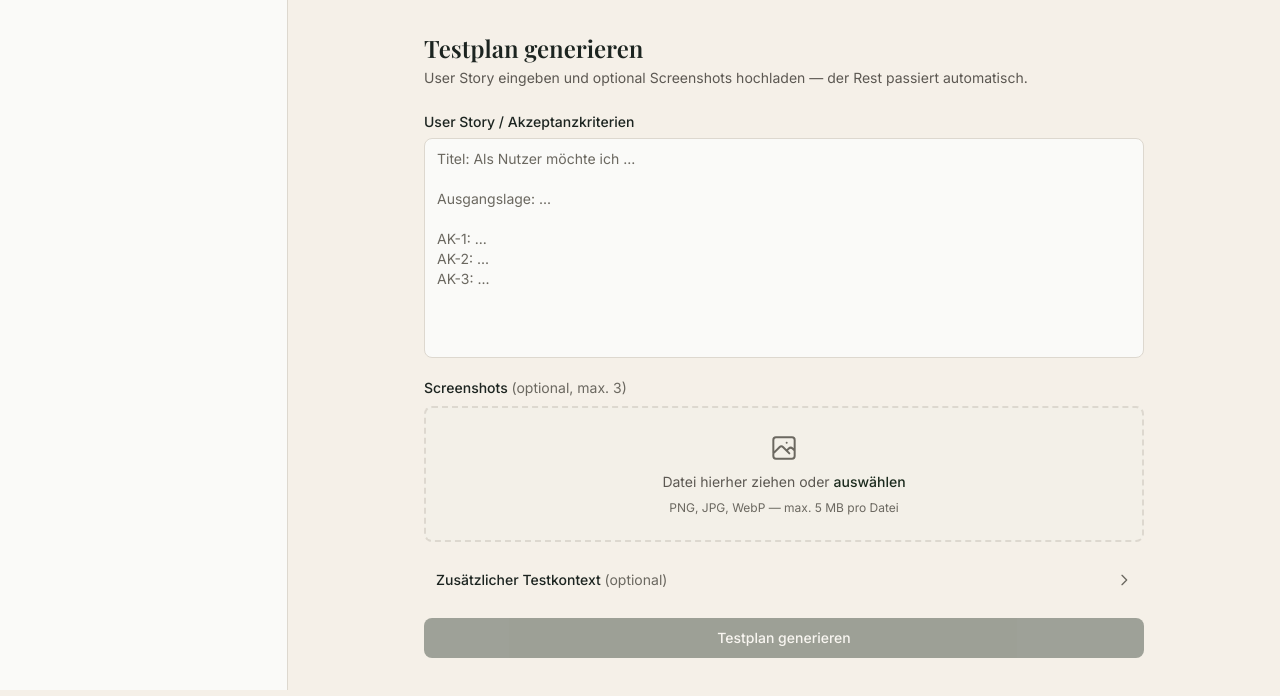
it: TestCaseGeneratorPage — Reset › kehrt zum Input-Screen zurück
Type "Story" into the text box labelled "User Story / Akzeptanzkriterien". click: (784, 248)
box: [424,138,1144,358]
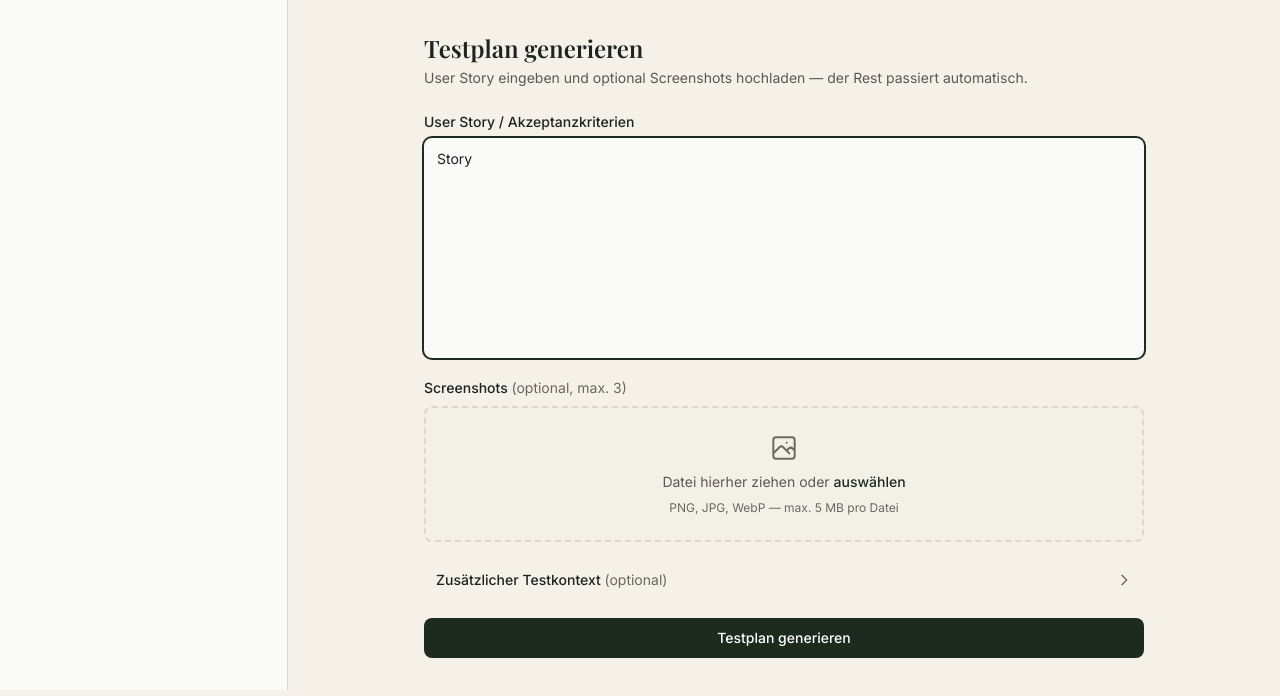
Click the button "Testplan generieren". click: (784, 638)
box: [424,618,1144,658]
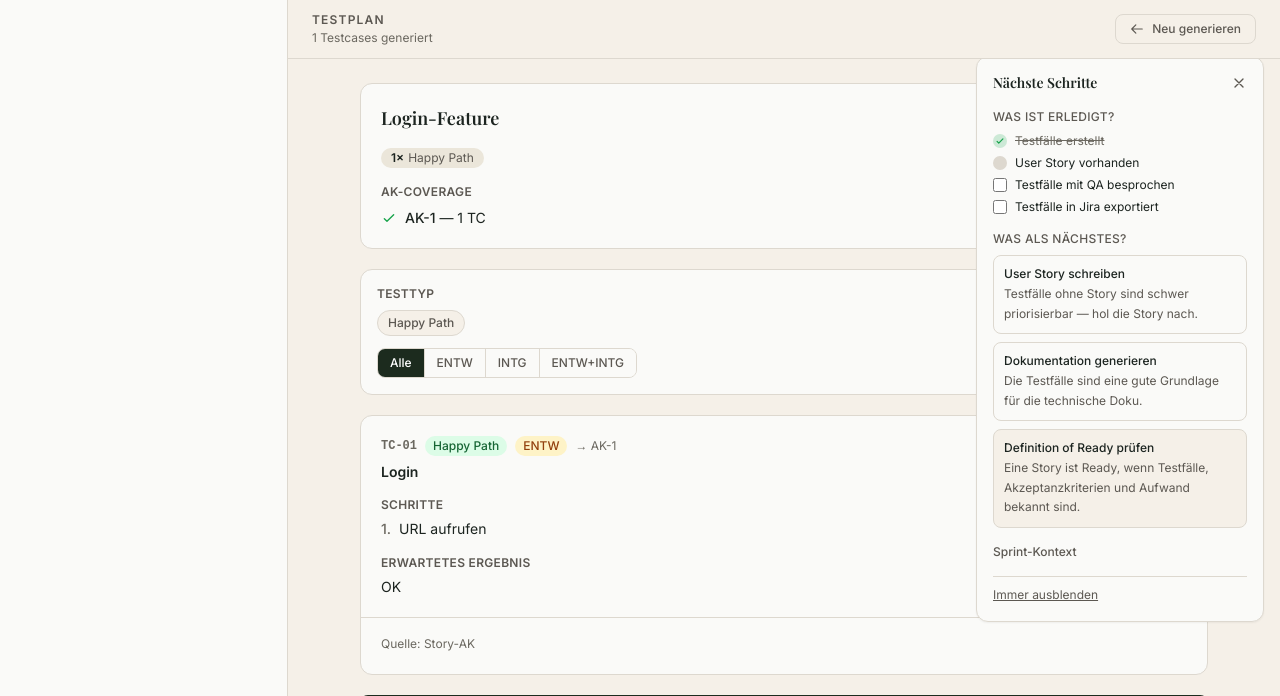
Click the button with aria-label "Zurück zur Eingabe". click: (1186, 29)
box: [1115,14,1256,44]
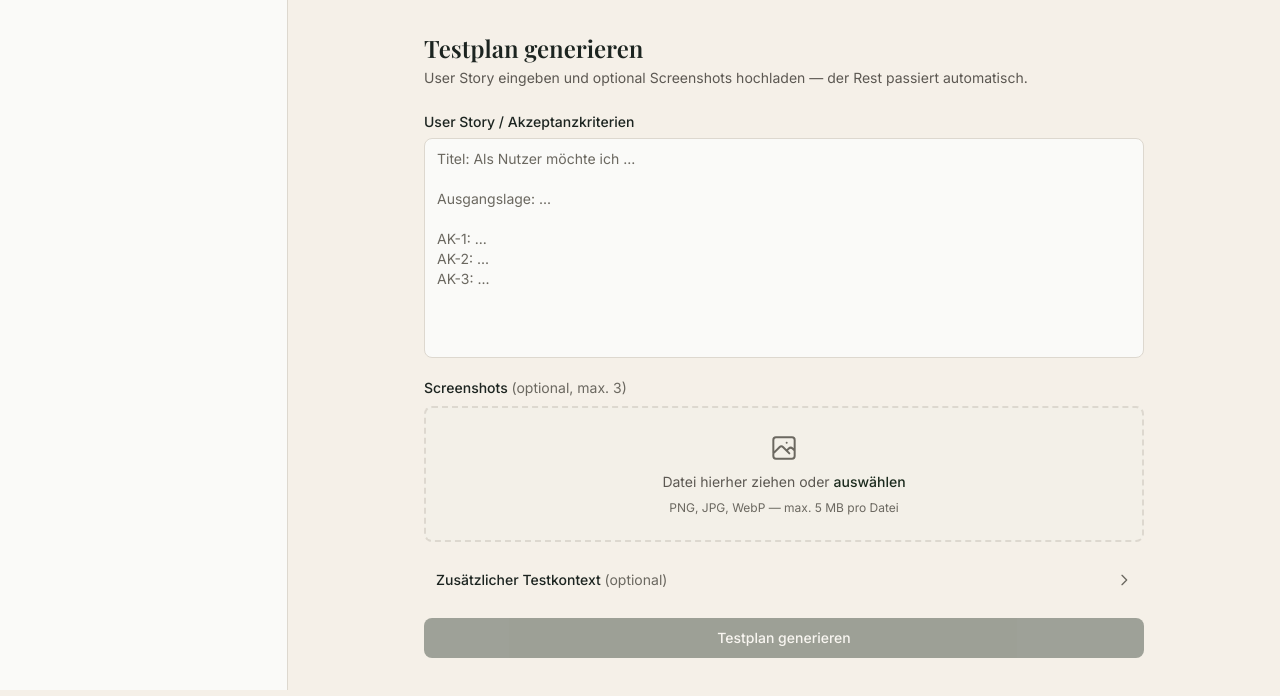
Now the button "Testplan generieren" is shown, box [424,618,1144,658]
